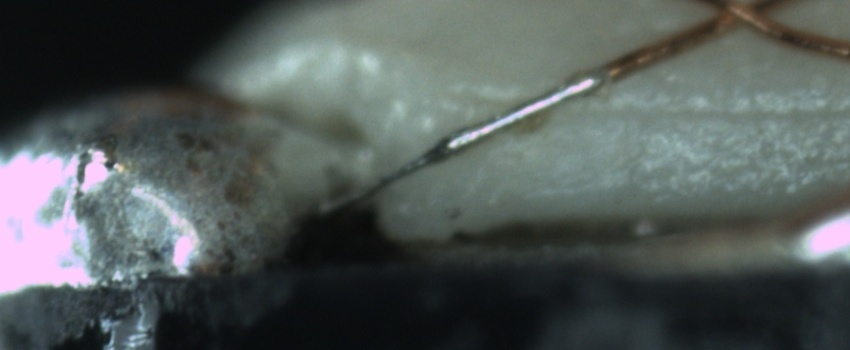CL: (686, 0, 796, 39)
DL: (563, 85, 850, 143)
TS: (317, 69, 605, 219)
TTCW: (310, 41, 658, 223)
